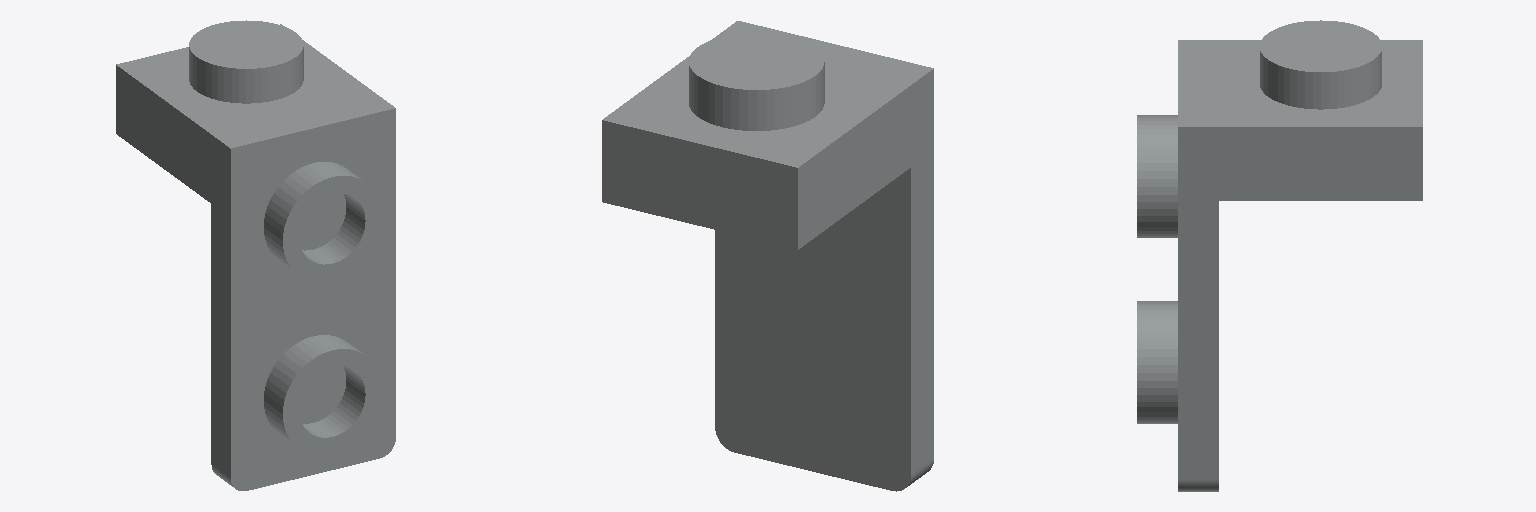
The robot description file, URDF, robot "79389__light_bluish_gray":
<?xml version="1.0"?>
<robot name="79389__light_bluish_gray">
  <link name="79389__light_bluish_gray">
    <inertial>
      <origin xyz="0.000000 -0.002390 -0.005906" rpy="0 0 0"/>
      <mass value="0.001089"/>
      <inertia ixx="2.985923755e-08" ixy="-0.000000000e+00" ixz="-6.785465962e-25" iyy="2.656960544e-08" iyz="-5.996183508e-09" izz="1.410843537e-08"/>
    </inertial>
    <visual>
      <geometry>
        <mesh filename="../meshes/visual/79389.obj" scale="1 1 1"/>
      </geometry>
      <material name="79389__light_bluish_gray_color">
        <color rgba="0.630 0.650 0.650 1.000"/>
      </material>
    </visual>
    <collision>
      <geometry>
        <mesh filename="../meshes/collision/79389_hull.obj" scale="1 1 1"/>
      </geometry>
    </collision>
  </link>
</robot>

--- Facts derived from the render (not from the file) ---
Views: 3 orthographic renders of the robot side by side, from view 1: azimuth 30°, elevation 25°; view 2: azimuth 150°, elevation 25°; view 3: azimuth 270°, elevation 25°.
Robot: 79389__light_bluish_gray — 1 links, 0 joints (none); root link 79389__light_bluish_gray; default pose: all joints at 0.
Links seen in each view (by area): view 1: 79389__light_bluish_gray; view 2: 79389__light_bluish_gray; view 3: 79389__light_bluish_gray.
Link boxes in pixels (<box>): 79389__light_bluish_gray: <box>116,20,395,490</box>; 79389__light_bluish_gray: <box>602,21,933,491</box>; 79389__light_bluish_gray: <box>1137,20,1422,491</box>.
Bounding box of the posed robot: 0.008 × 0.0112 × 0.0176 m (x, y, z).
1 mesh visuals loaded from 1 distinct referenced files (1 OBJ).
